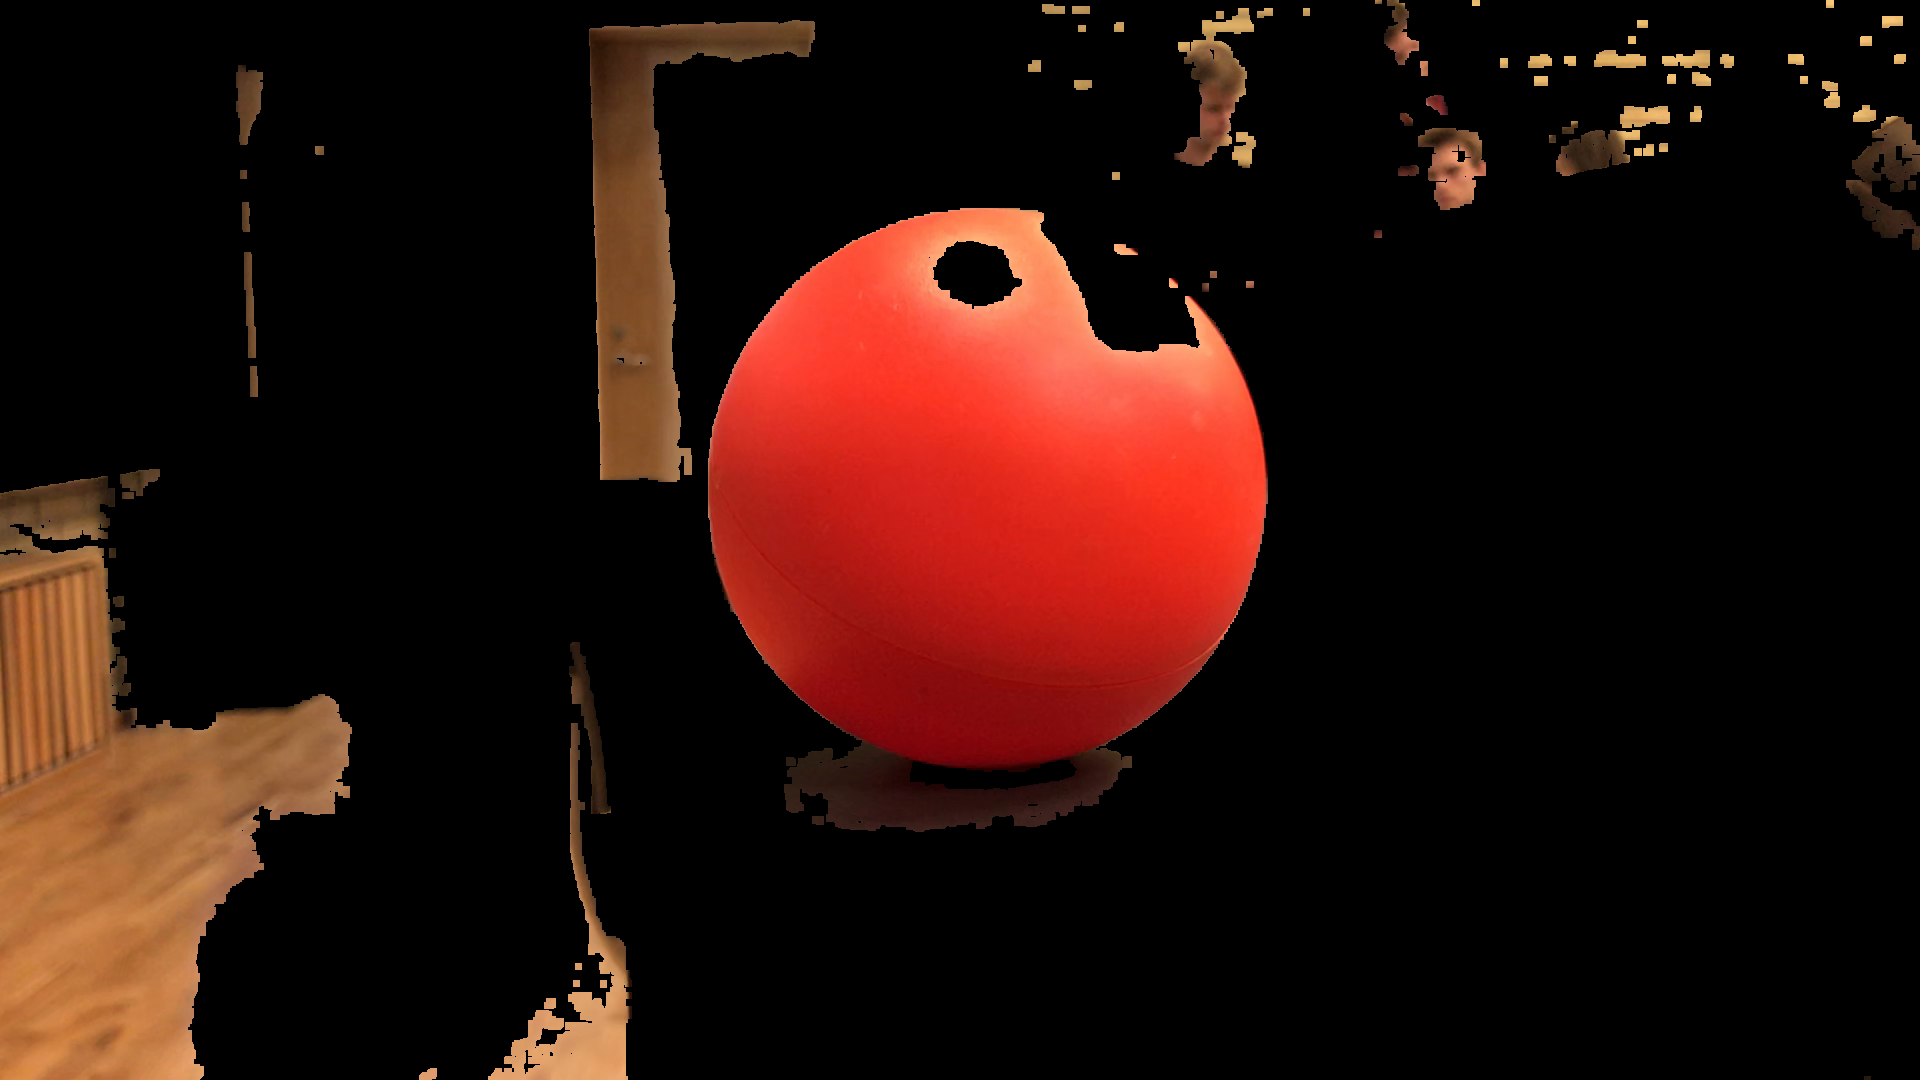Ball: (715, 207, 1273, 765)
